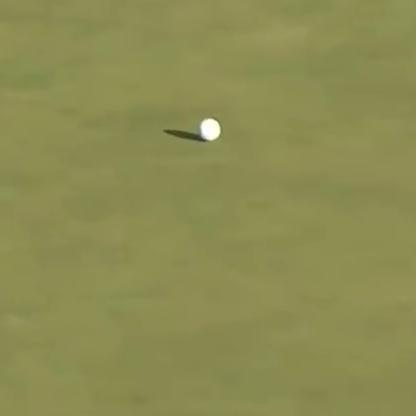golfball: (197, 111, 219, 139)
